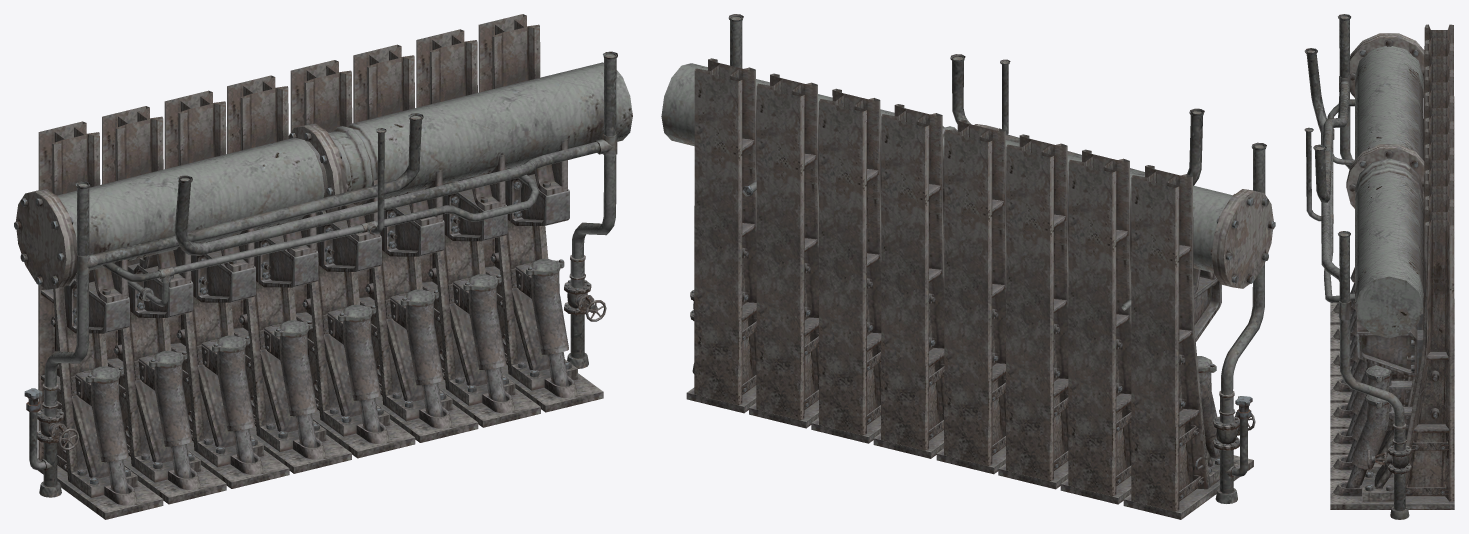
The model's file is sm22_094_shipsengineparts01a.fbx.
The picture shows the model from 3 angles, left to right: view 1: azimuth 30°, elevation 25°; view 2: azimuth 150°, elevation 25°; view 3: azimuth 270°, elevation 25°; orthographic projection. The views are drawn at different scales.
Visible parts, largest first — view 1: LOD_1_Group_0_Sub_1__sm22_094_ShipsEngineParts01A_A_Mat; view 2: LOD_1_Group_0_Sub_1__sm22_094_ShipsEngineParts01A_A_Mat; view 3: LOD_1_Group_0_Sub_1__sm22_094_ShipsEngineParts01A_A_Mat.
Boxes of the visible parts, x1=… form: LOD_1_Group_0_Sub_1__sm22_094_ShipsEngineParts01A_A_Mat: x1=14, y1=14, x2=632, y2=519; LOD_1_Group_0_Sub_1__sm22_094_ShipsEngineParts01A_A_Mat: x1=661, y1=14, x2=1275, y2=519; LOD_1_Group_0_Sub_1__sm22_094_ShipsEngineParts01A_A_Mat: x1=1304, y1=14, x2=1454, y2=519.
Bounding box in the file's own units: 9.13 × 5.03 × 2.42.
